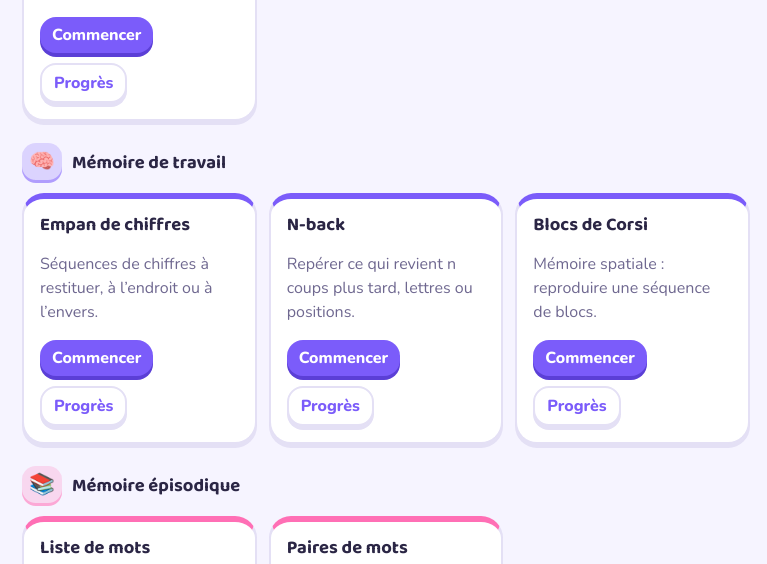
Scenario: every exercise › N-back opens, runs for a while and can be quit
(page scrolled)
Click the button "Commencer" below "N-back".
click(343, 358)  # box 287,340 -> 400,376
(page scrolled)
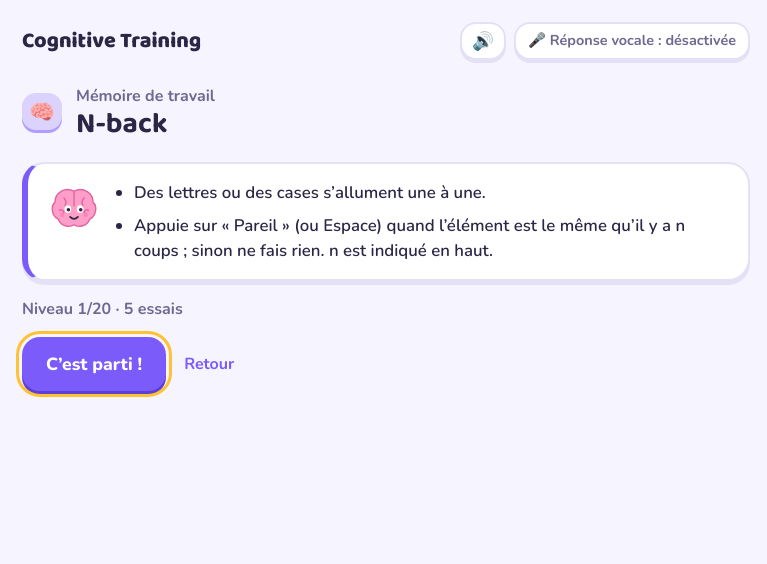
Click the button "C’est parti !".
click(94, 364)  # box 22,337 -> 166,392
Wait 20000 ms
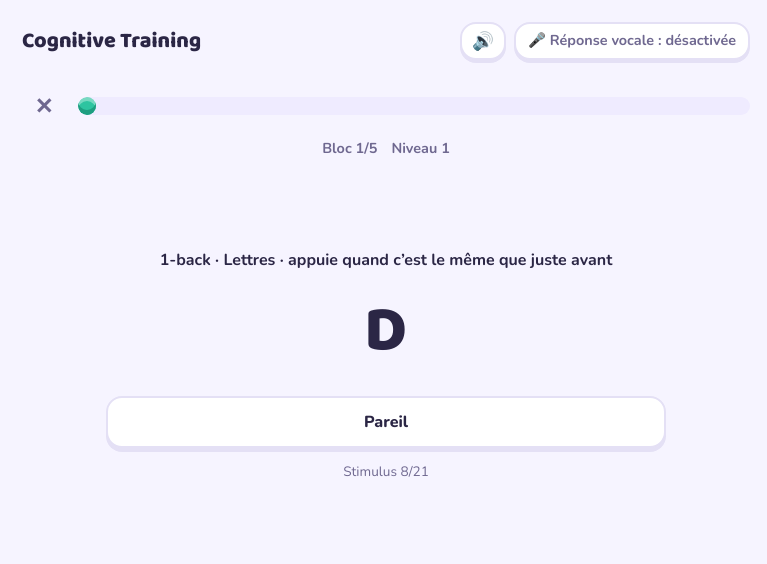
expect the text "Niveau 1" is shown: met, box 391,138 -> 450,160
expect the button named "Abandonner" is shown: met
Click the button named "Abandonner".
click(44, 106)  # box 22,84 -> 66,128
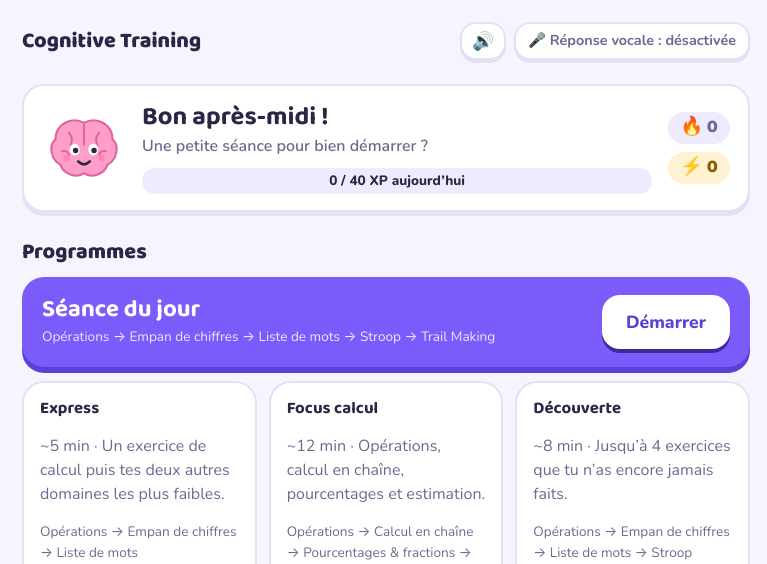
expect the heading "Programmes" is shown: met, box 22,235 -> 147,269
